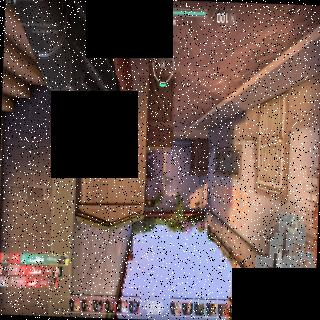ENEMY-BODY: (148, 149, 152, 162)
ENEMY-HEAD: (150, 158, 152, 162)
